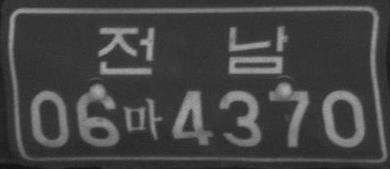0: (321, 89, 365, 147), (29, 90, 70, 147)
3: (218, 88, 262, 146)
4: (170, 90, 214, 146)
6: (74, 91, 120, 146)
7: (267, 89, 309, 148)
마: (123, 97, 162, 139)
전남_D: (97, 24, 289, 76)
